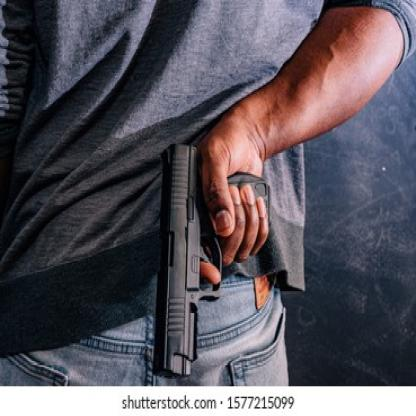handgun: (156, 143, 276, 374)
